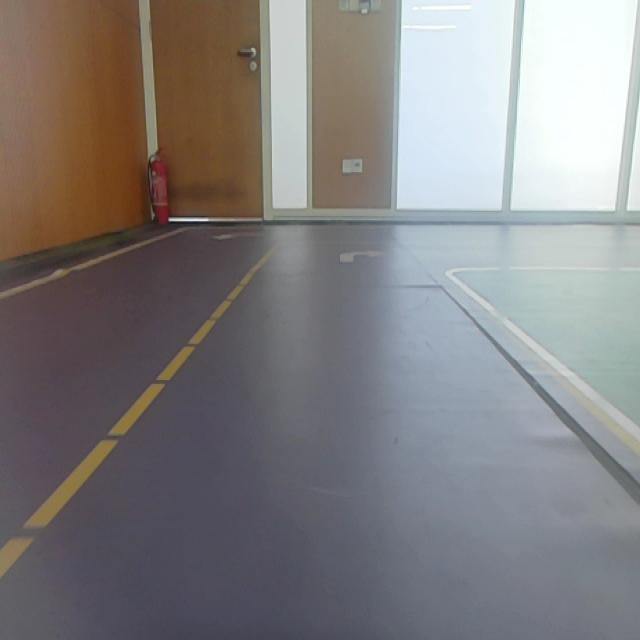left_lane: (0, 246, 276, 578)
right_lane: (445, 271, 640, 454)
